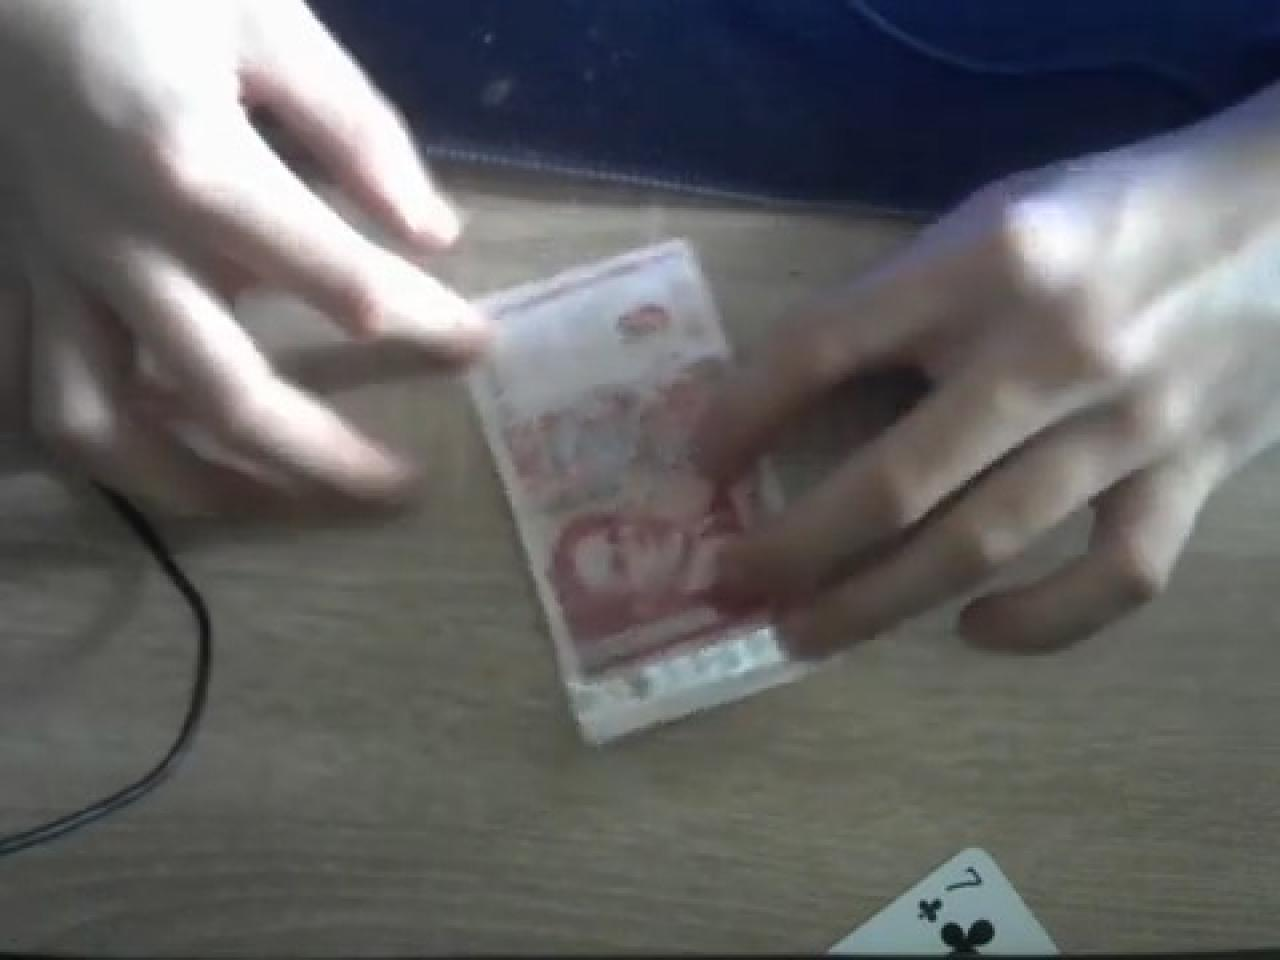5leva: (462, 240, 891, 752)
